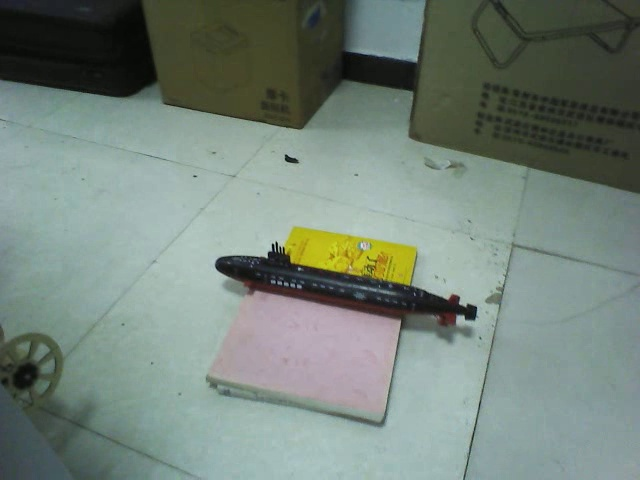submarine: (215, 240, 479, 325)
